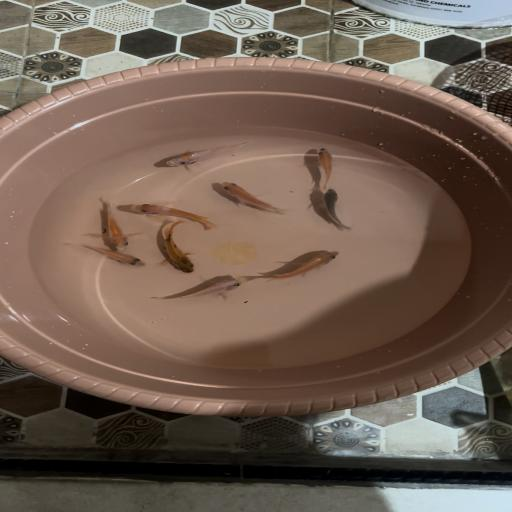nila: (151, 137, 264, 170), (258, 247, 351, 285), (210, 179, 292, 219), (149, 274, 254, 305), (80, 199, 137, 251), (125, 202, 226, 230), (151, 222, 202, 275), (60, 242, 146, 272), (319, 186, 360, 234), (306, 143, 339, 190)
